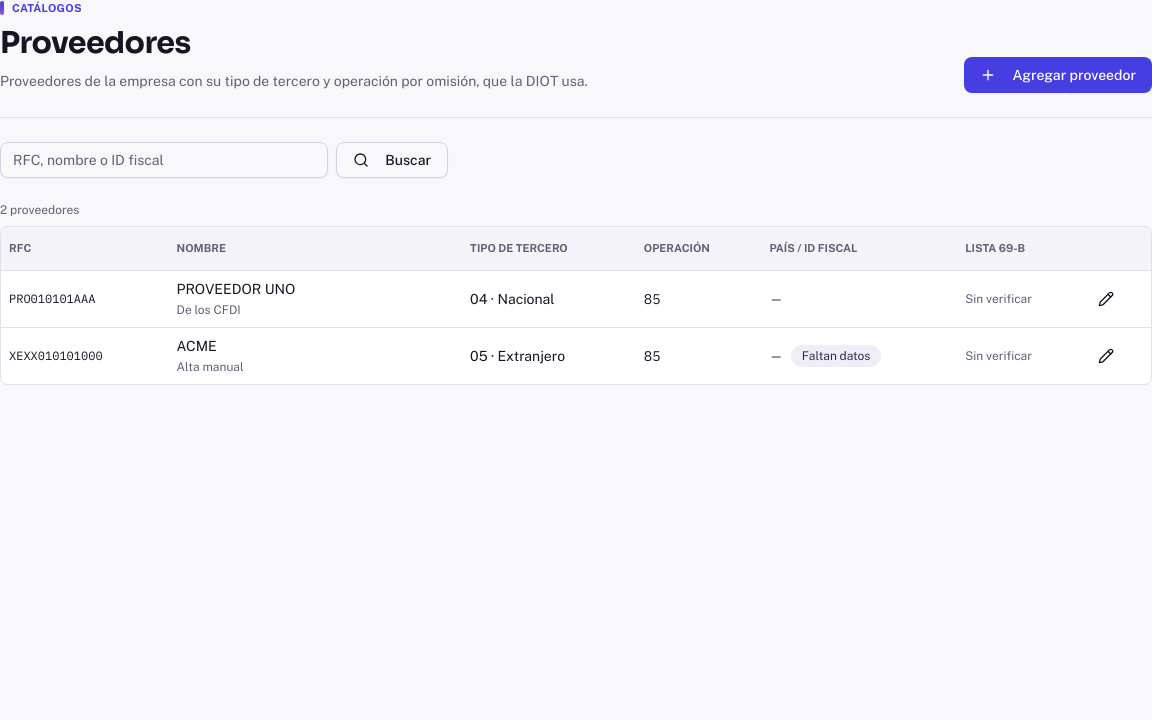
it: ProveedoresPantalla › edita el tipo de tercero y la operación sin mandar el RFC
The width and height of the screenshot is (1152, 720).
Later steps or results of the test are not shown.
Click the button named "Editar PROVEEDOR UNO" at (1106, 299), box top-left (1092, 285), bottom-right (1120, 313)
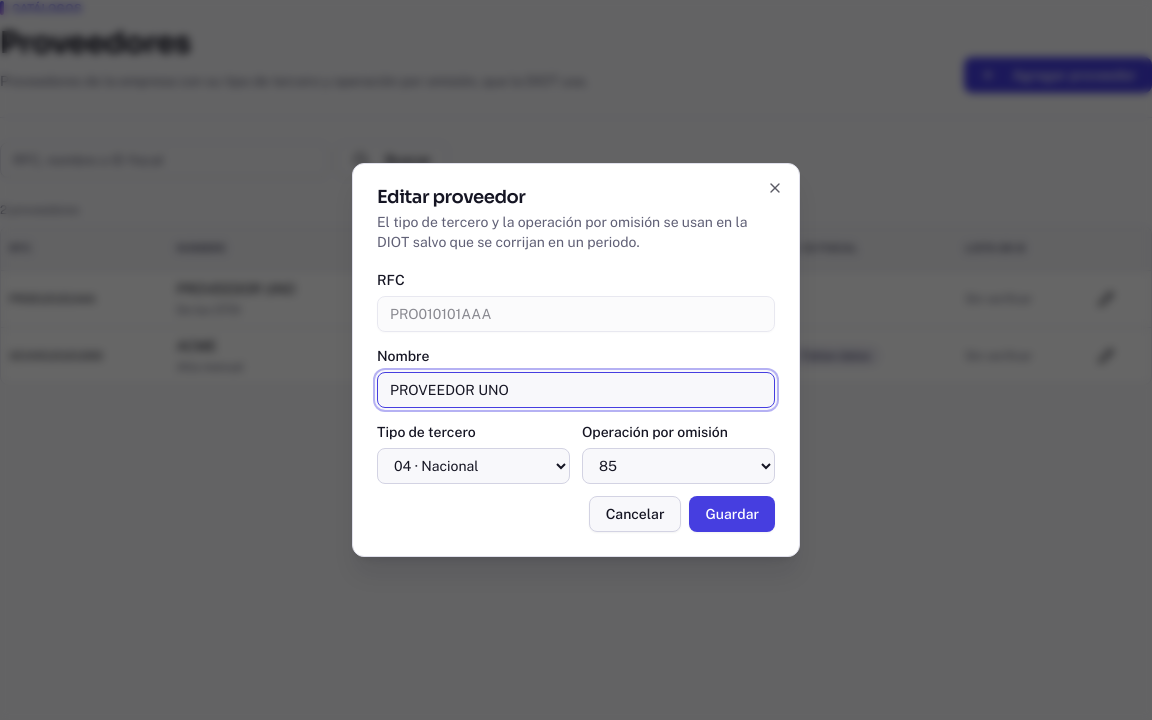
Check: the field labelled "RFC" is disabled, box top-left (377, 296), bottom-right (775, 332)
